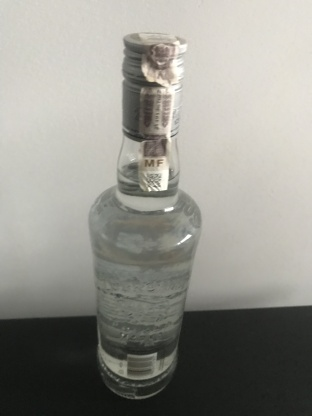nakretka: (120, 29, 189, 143)
